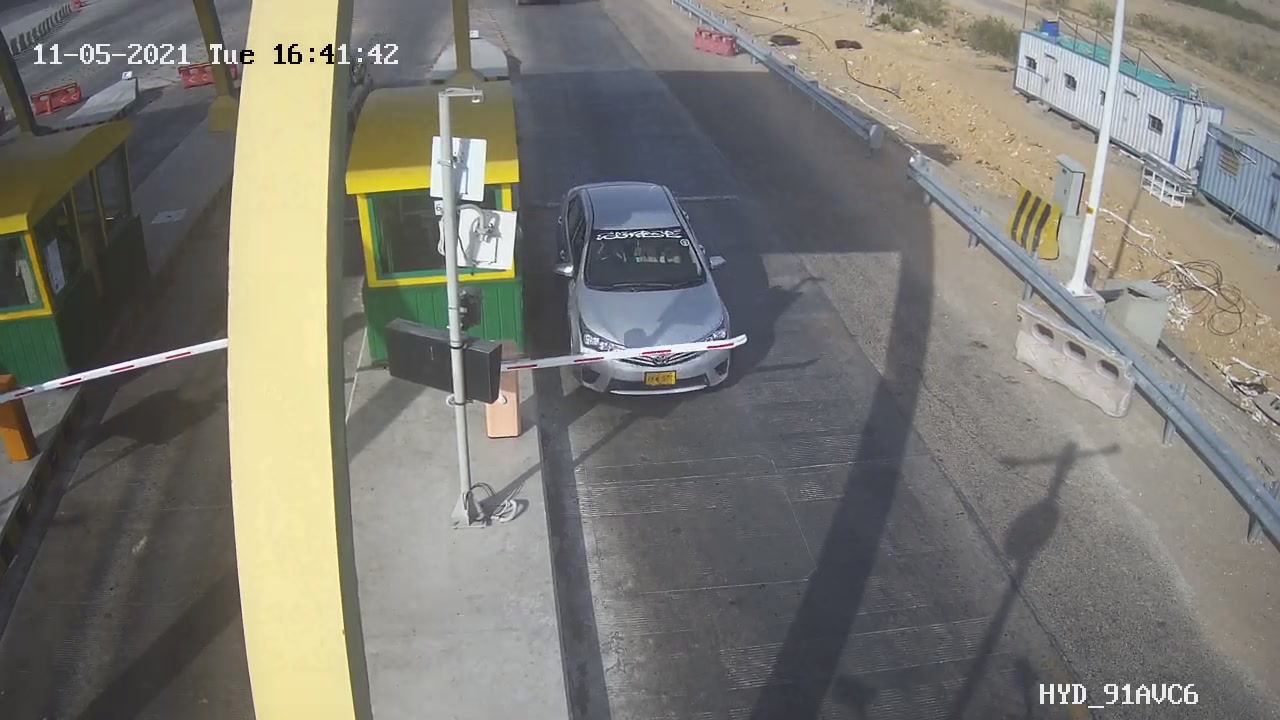F1: (534, 164, 763, 417)
